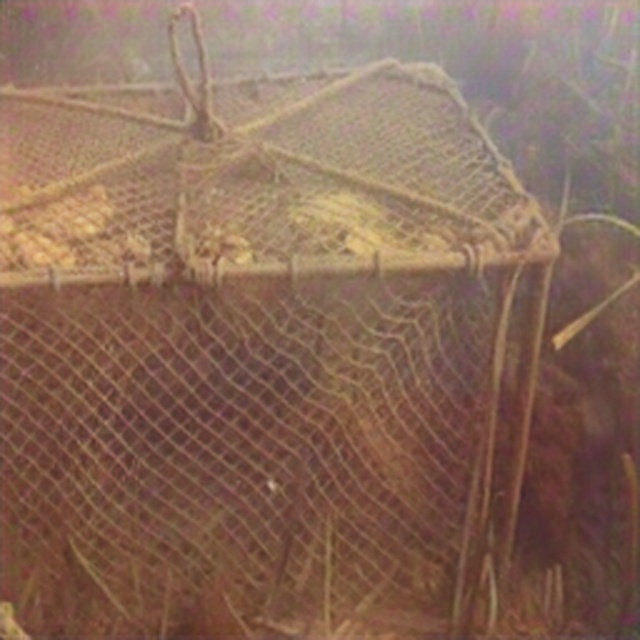mine: (0, 55, 559, 639)
